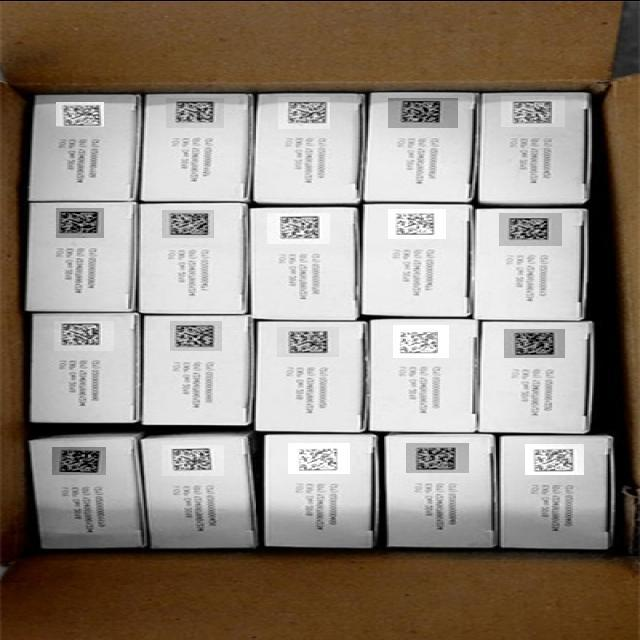Data-Matrix: (388, 98, 458, 128), (499, 212, 562, 245), (501, 95, 565, 126), (267, 212, 330, 243), (162, 444, 224, 475), (288, 442, 350, 473), (406, 442, 469, 472), (277, 327, 339, 357), (394, 324, 450, 357), (525, 443, 584, 474), (54, 320, 114, 350), (504, 328, 565, 357), (166, 98, 224, 128), (388, 208, 446, 238), (278, 96, 330, 128), (170, 321, 222, 351), (52, 446, 106, 474), (162, 209, 214, 237), (56, 207, 104, 237), (56, 101, 104, 127)
